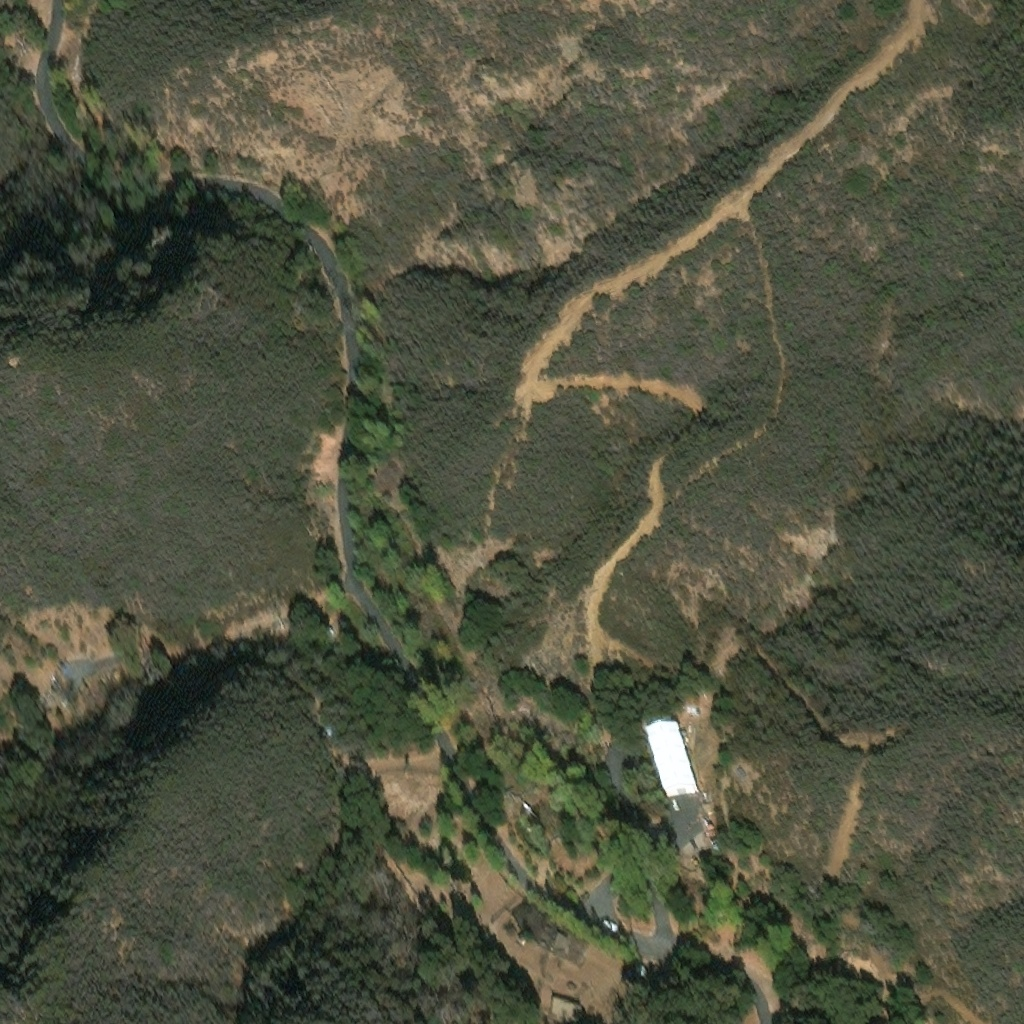0 no-damage: (644, 717, 696, 794), (545, 987, 577, 1010), (549, 926, 566, 944)
4 un-classified: (733, 765, 746, 778), (699, 797, 710, 809), (514, 928, 523, 937), (631, 954, 640, 962), (325, 730, 334, 737), (708, 826, 714, 831), (707, 819, 711, 824)
